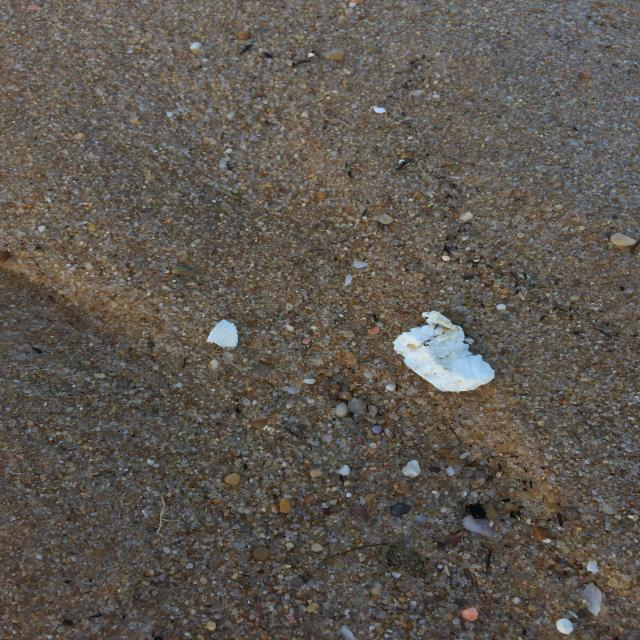litter: (392, 310, 499, 391)
